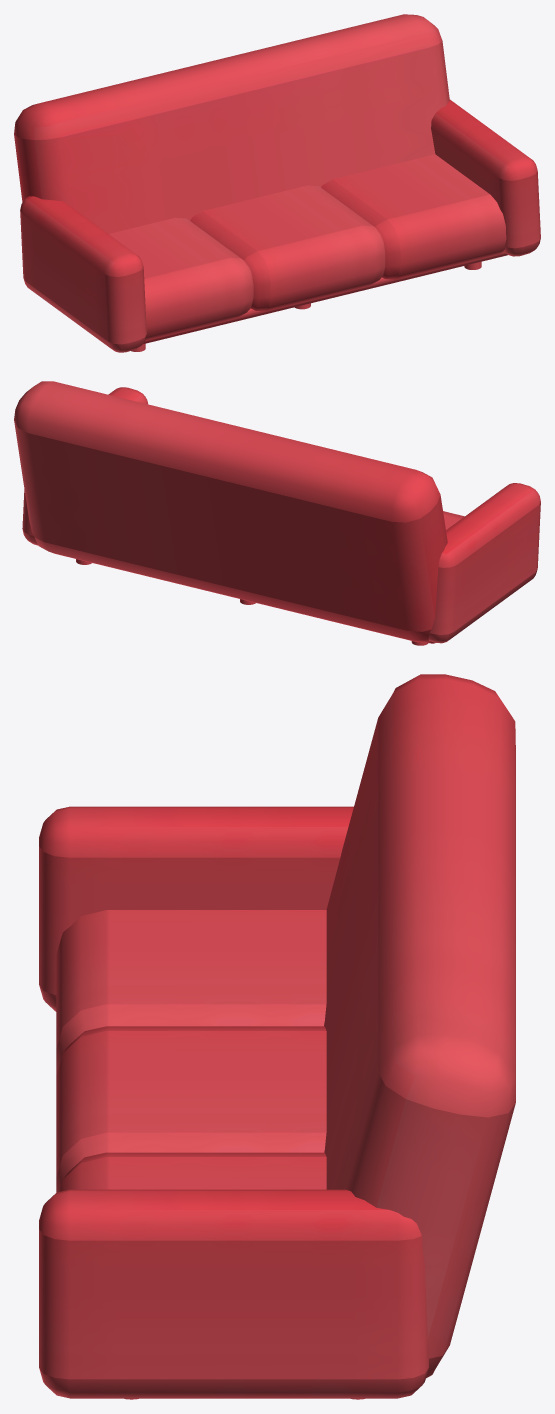
The model's file is sofa_textured.fbx.
3 renders of one model, top to bottom at view 1: azimuth 30°, elevation 25°; view 2: azimuth 150°, elevation 25°; view 3: azimuth 270°, elevation 25°, orthographic. The views are drawn at different scales.
Parts seen in each view (by area): view 1: pCube8; view 2: pCube8; view 3: pCube8.
Part boxes in pixels (x1,y1,x2,y2): pCube8: (14, 14, 540, 352); pCube8: (14, 381, 540, 645); pCube8: (39, 674, 515, 1399).
Size of the model in its own units: 2.81 by 1.16 by 1.34.
1 material, 1 textured.
